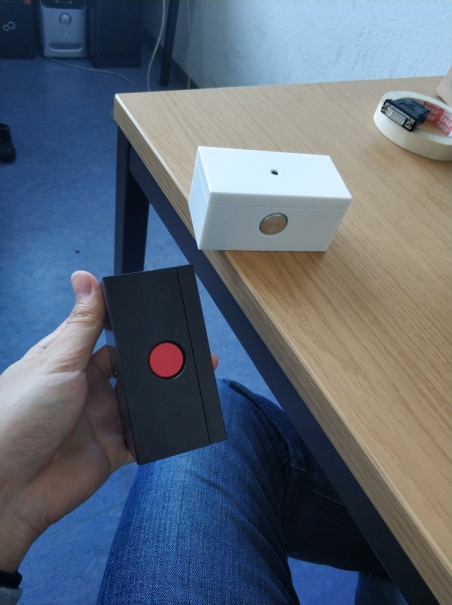black+black+red: (99, 263, 230, 467)
white+white+silver: (186, 143, 354, 254)
